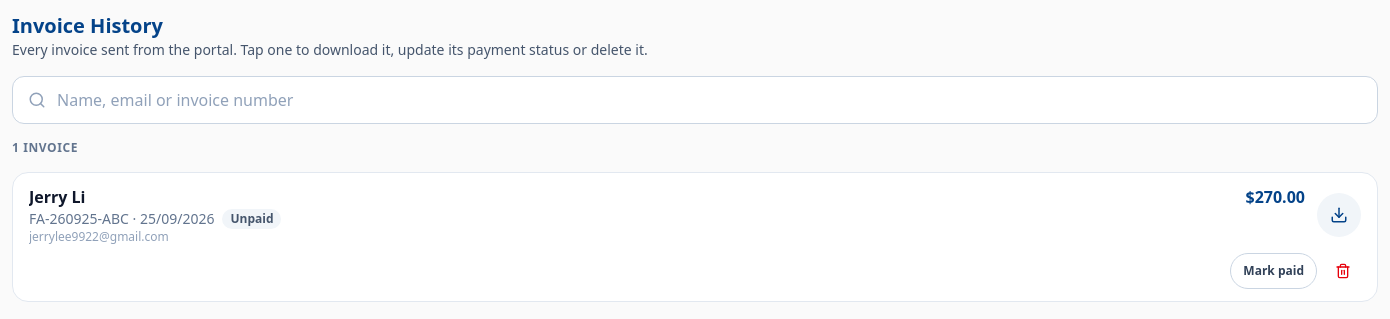
Test case: InvoiceHistory › deletes an invoice after confirming
What coordinates should you click on to do the following:
click the button named "Delete FA-260925-ABC"
I would click on:
 (1343, 271)
Its box is x1=1325 y1=253 x2=1361 y2=289.
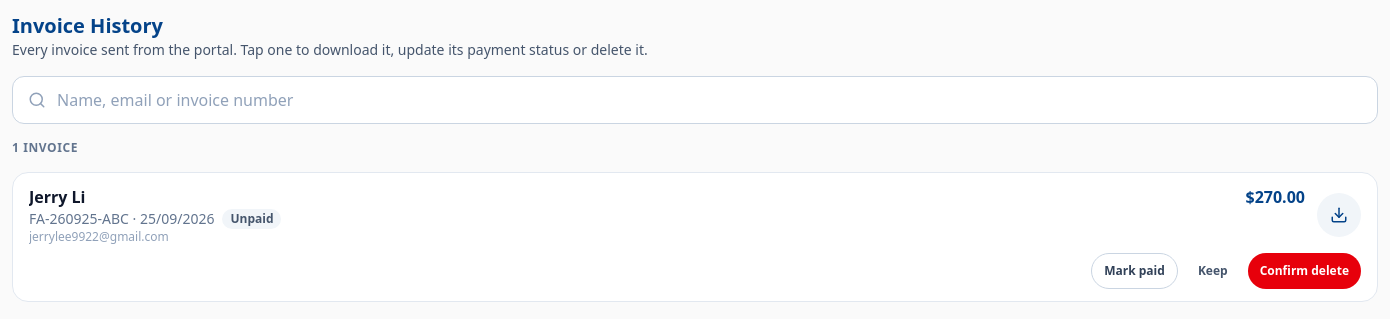
What coordinates should you click on to do the following:
click the button "Confirm delete"
I would click on:
 (1304, 271)
Its box is x1=1248 y1=253 x2=1361 y2=289.
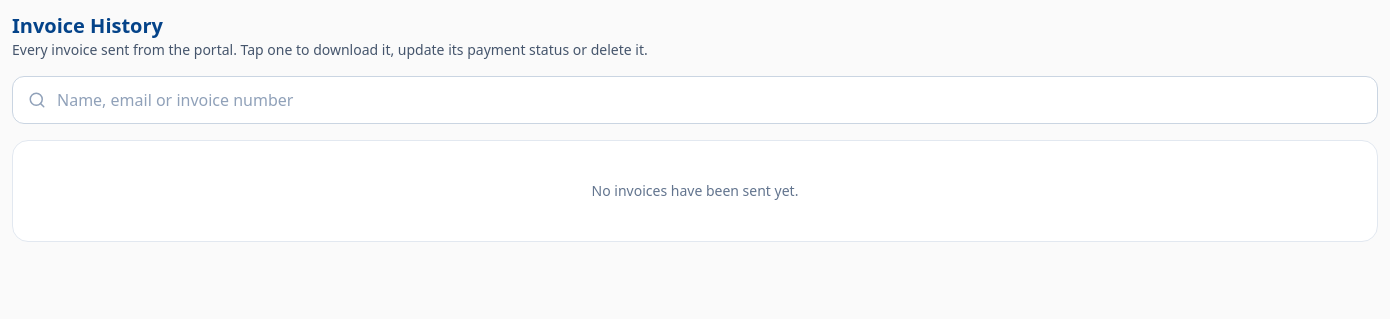
Now the button "Jerry Li" is gone
